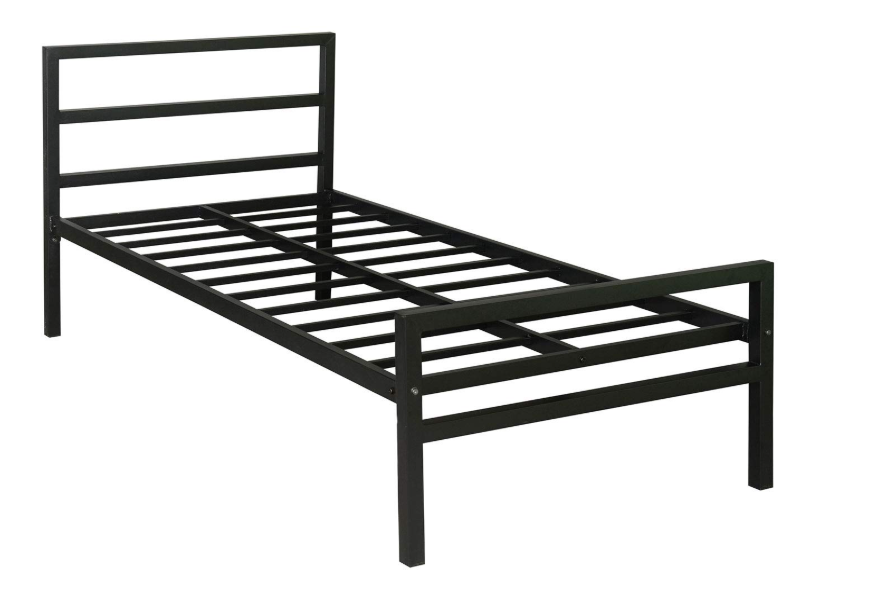cot: (37, 24, 778, 563)
